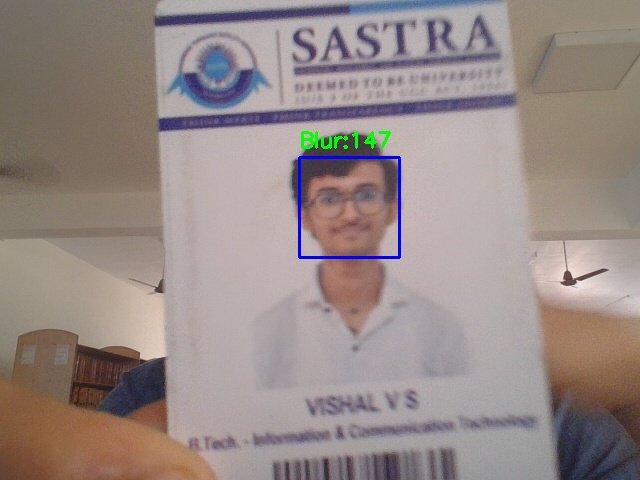fake: (299, 157, 399, 257)
